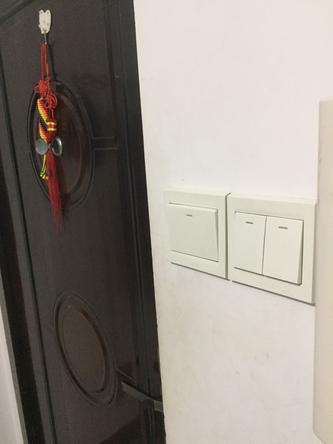switch: (163, 199, 222, 265), (260, 209, 305, 287), (230, 208, 267, 276)
